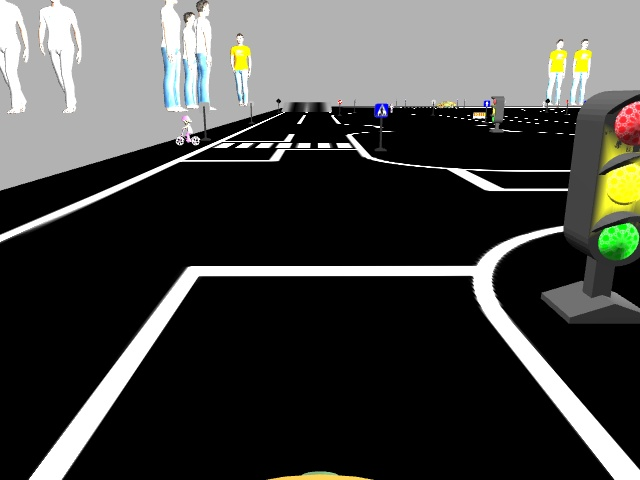Crosswalk: (374, 103, 388, 116)
Pedestrian: (173, 114, 200, 144)
TrafficLight: (564, 92, 639, 259)
